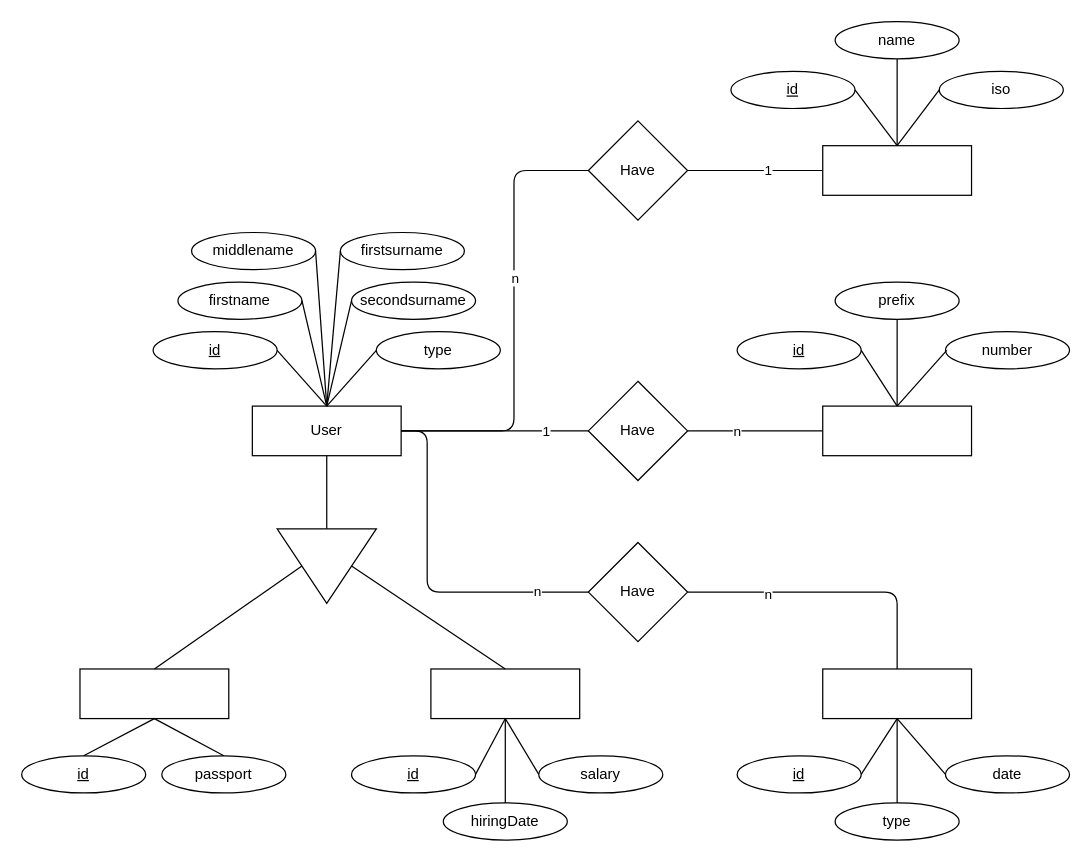
Some shapes in this 1091 by 862 pixel diagram are drawn without their labels. Each missing label, with the centre of its shape:
Client: point 154,693
Control: point 897,693
Country: point 897,169
Employee: point 505,693
ES: point 326,565
Phonenumber: point 897,430
